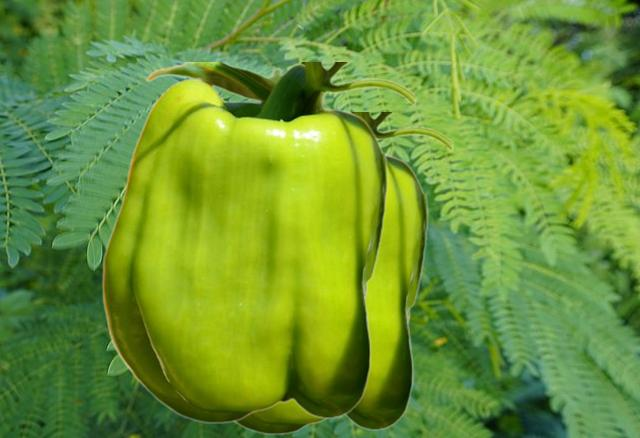bell_pepper: (101, 62, 416, 423), (233, 112, 453, 434)
